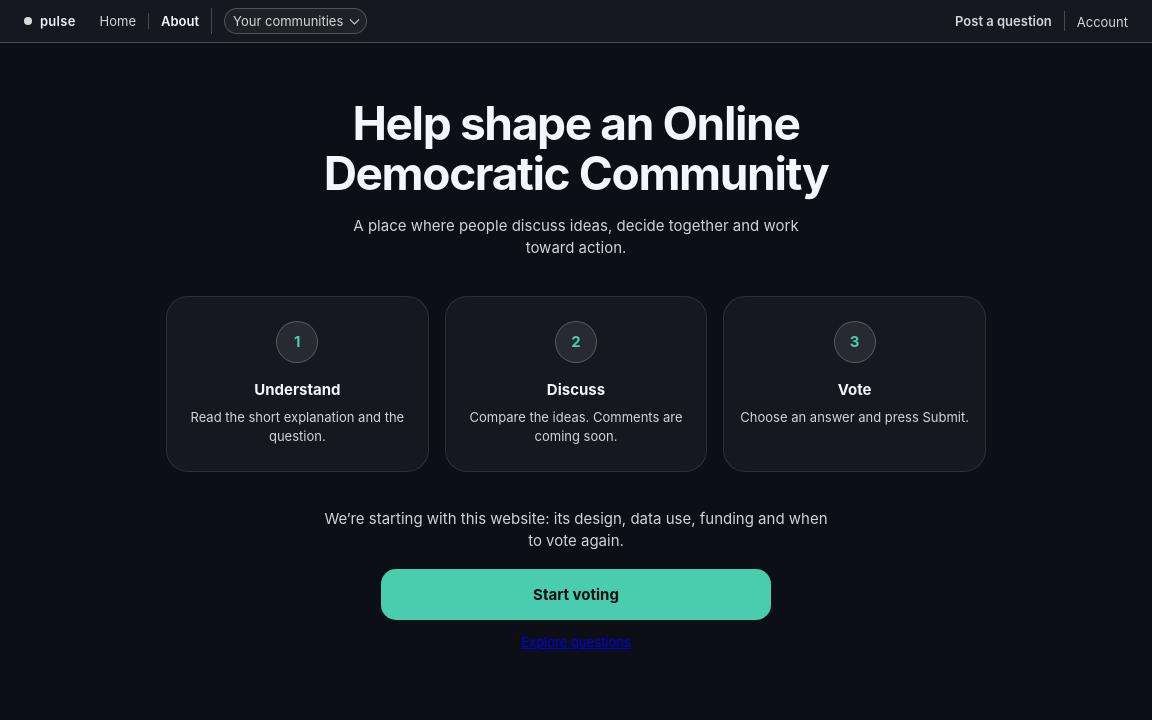
Test: keeps shared navigation and the real account on about
Click the button "Your communities". click: {"x": 296, "y": 21}
box: [224,8,367,34]
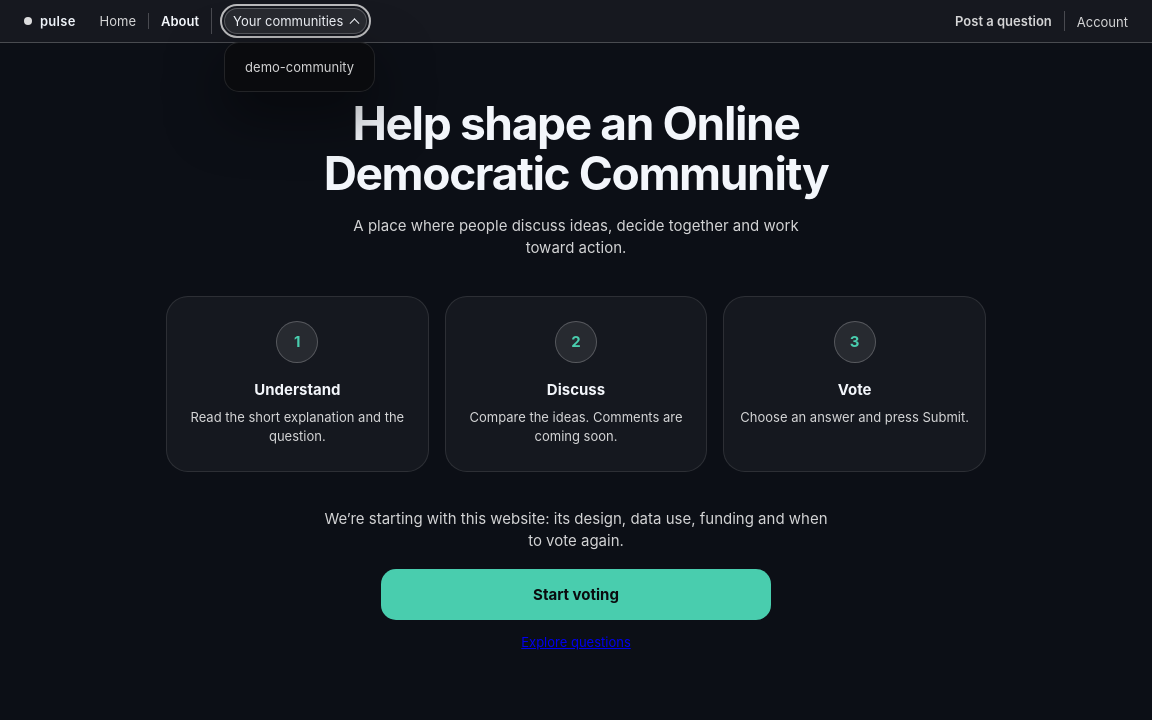
Click the button "Account". click: {"x": 1102, "y": 22}
box: [1077,14,1128,30]
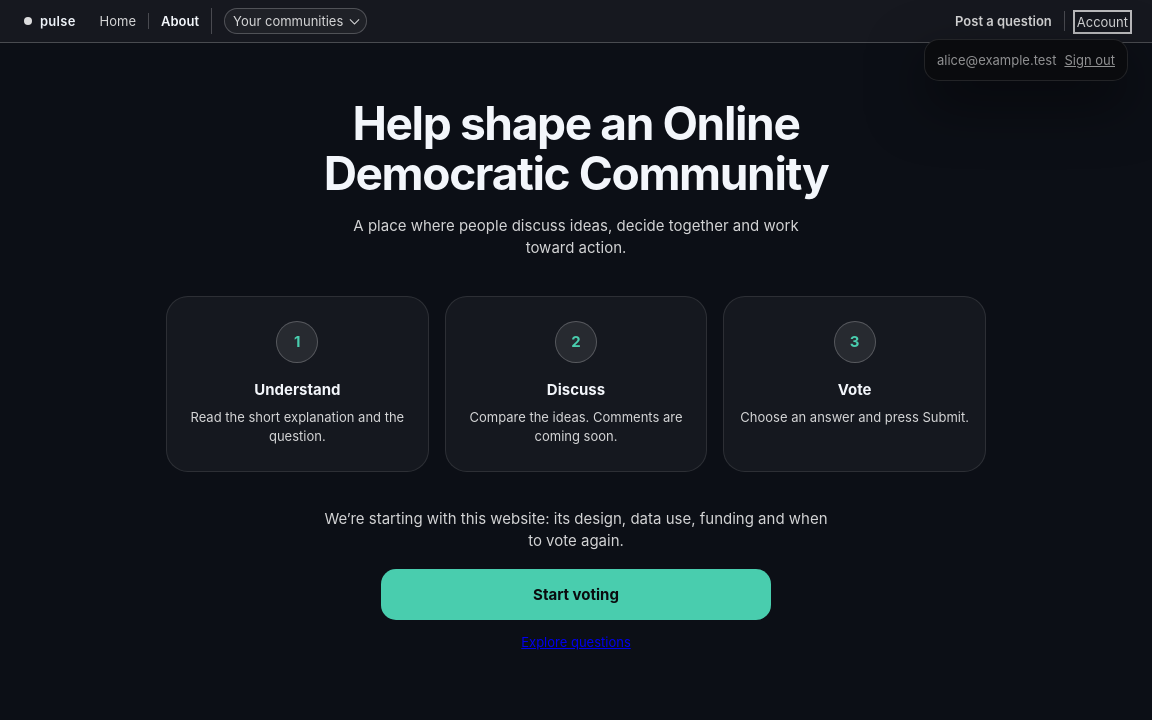
Check: the text "alice@example.test" is shown, box [937,52,1056,68]
